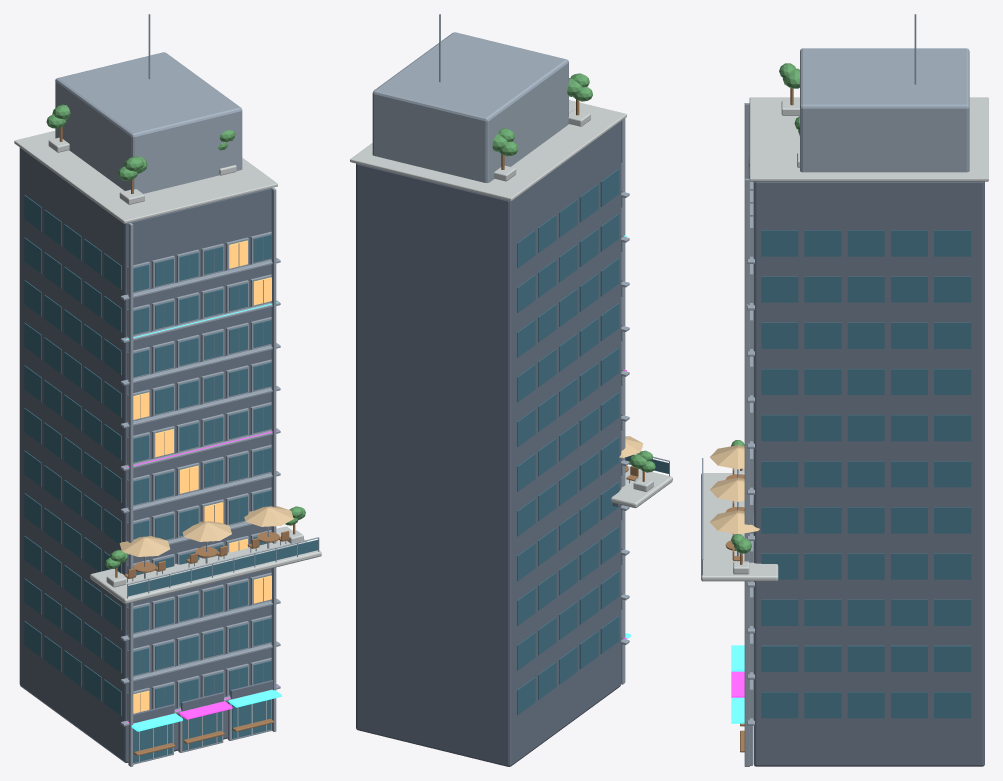
The model's file is neon-block-b.glb.
3 renders of one model, left to right at view 1: azimuth 30°, elevation 25°; view 2: azimuth 150°, elevation 25°; view 3: azimuth 270°, elevation 25°, orthographic. The views are drawn at different scales.
Parts seen in each view (by area): view 1: Stepped tower, Recessed glazing.001, Tower crown, Roof coping, Recessed glazing, Cafe parasol, Food counter, Sculpted foliage, Architectural light ribbon.001, Architectural light ribbon; view 2: Stepped tower, Recessed glazing.001, Tower crown, Roof coping, Sculpted foliage; view 3: Stepped tower, Recessed glazing.001, Tower crown, Roof coping, Cafe parasol, Sculpted foliage, Architectural light ribbon.001, Food counter.
Boxes of the visible parts, x1,y1,x2,y2 form: Stepped tower: (19, 147, 273, 762); Recessed glazing.001: (24, 195, 318, 762); Tower crown: (55, 14, 319, 766); Roof coping: (14, 131, 321, 762); Recessed glazing: (133, 240, 271, 713); Cafe parasol: (119, 506, 293, 556); Food counter: (59, 127, 295, 755); Sculpted foliage: (46, 104, 305, 568); Architectural light ribbon.001: (126, 302, 281, 731); Architectural light ribbon: (126, 430, 278, 723); Stepped tower: (356, 121, 621, 766); Recessed glazing.001: (517, 169, 668, 715); Tower crown: (372, 14, 669, 684); Roof coping: (350, 100, 672, 508); Sculpted foliage: (492, 73, 655, 472); Stepped tower: (748, 159, 984, 766); Recessed glazing.001: (749, 154, 971, 718); Tower crown: (702, 14, 969, 766); Roof coping: (701, 97, 988, 581); Cafe parasol: (710, 445, 759, 533); Sculpted foliage: (731, 63, 799, 553); Architectural light ribbon.001: (731, 304, 747, 723); Food counter: (725, 88, 793, 752).
Size of the model in its own units: 16.19 by 52 by 18.65.
